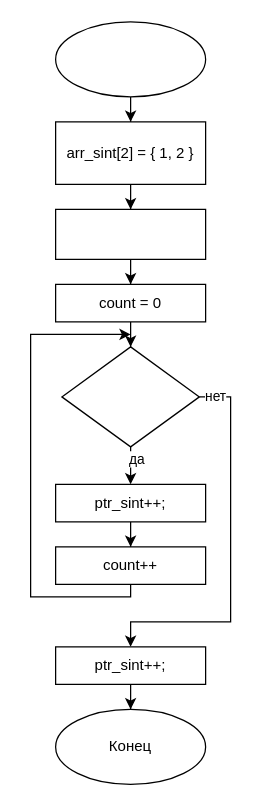
This 263x806 diagram has some shape labels left out. Here are the shapes that lost their labels. From the top down, the centre of each, then its label:
At pixel 130 59: "Начало".
At pixel 130 233: "char* ptr_sint = arr_sint".
At pixel 130 396: "ptr_sint != &arr_sint[1]".
